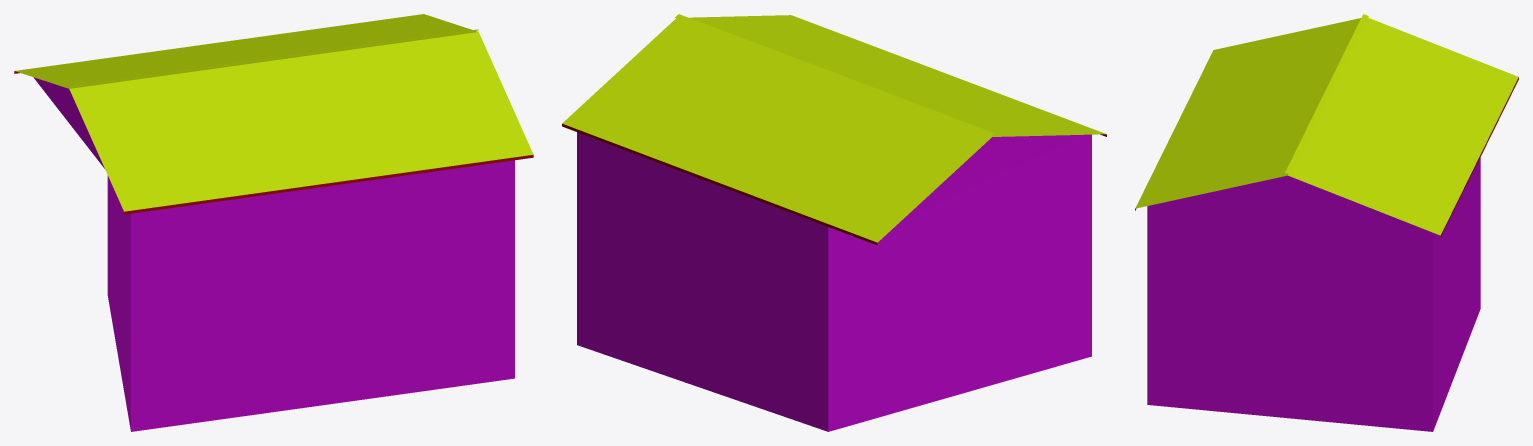
Rendered from ces_27.glb.
The picture shows the model from 3 angles, left to right: view 1: azimuth 30°, elevation 25°; view 2: azimuth 150°, elevation 25°; view 3: azimuth 270°, elevation 25°; orthographic projection. The views are drawn at different scales.
Parts seen in each view (by area): view 1: ces_27; view 2: ces_27; view 3: ces_27.
Boxes of the visible parts, left/top/right/bottom form: ces_27: left=14, top=14, right=533, bottom=431; ces_27: left=562, top=14, right=1106, bottom=431; ces_27: left=1135, top=14, right=1518, bottom=431.
Bounding box in the file's own units: 18.2 × 11.45 × 15.9.
